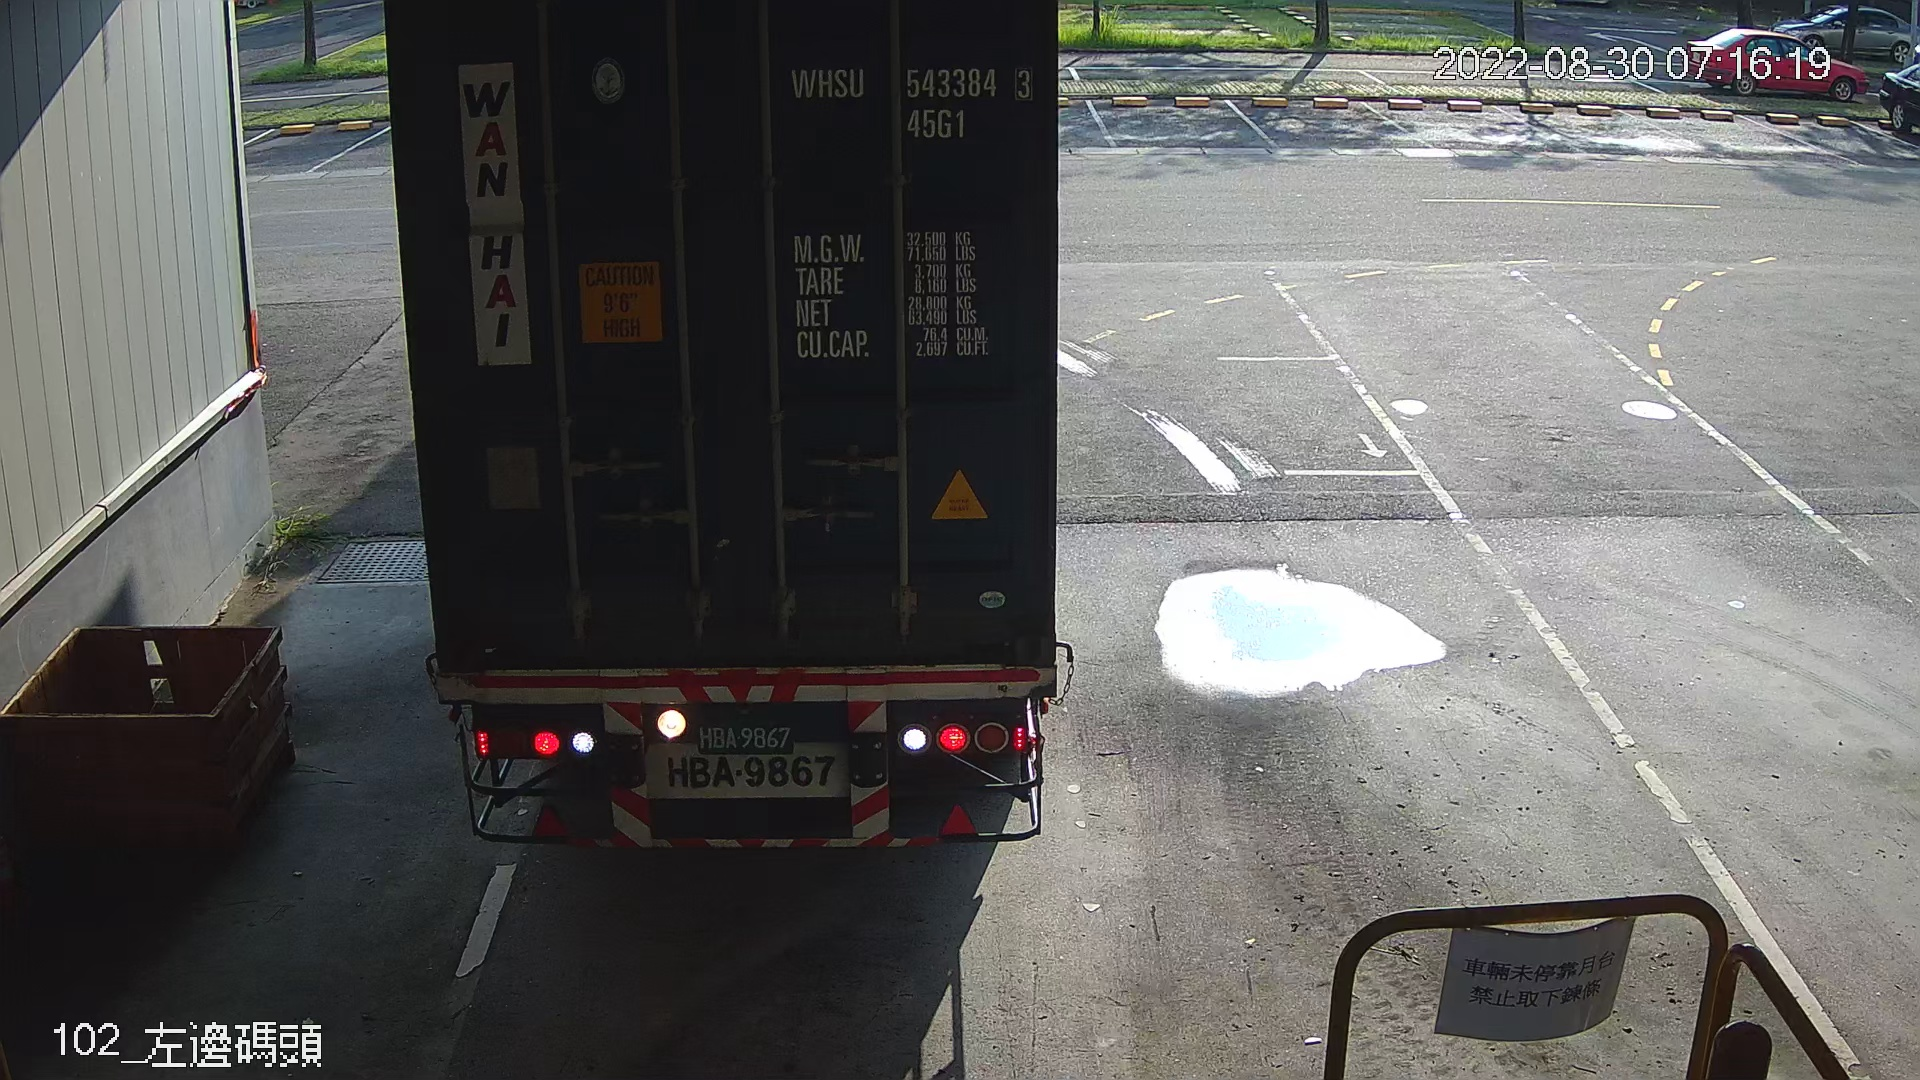container: (781, 51, 1042, 154)
